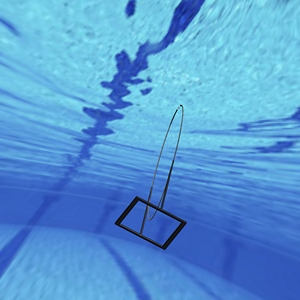circle: (111, 104, 187, 249)
